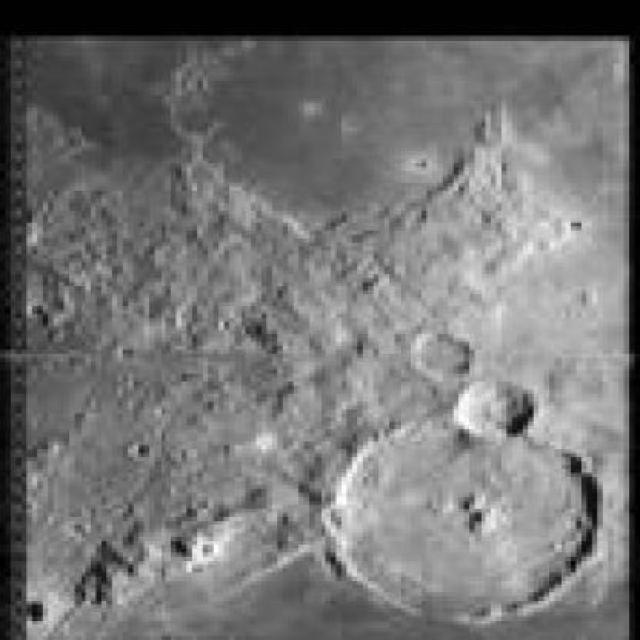crater: (322, 418, 601, 616), (455, 380, 539, 442)
